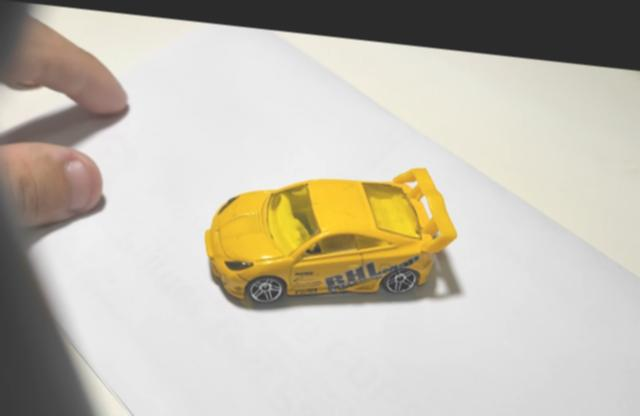07_RHLTURBO: (203, 158, 458, 306)
